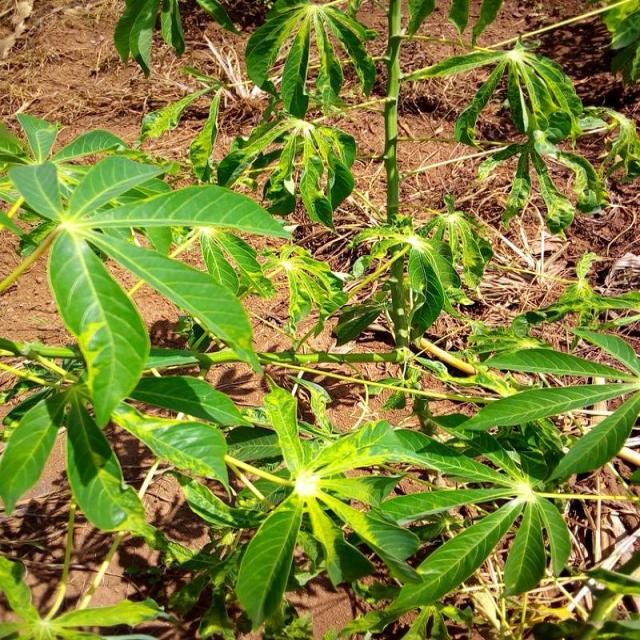cassava leaf: (1, 112, 292, 538), (47, 226, 152, 429)
